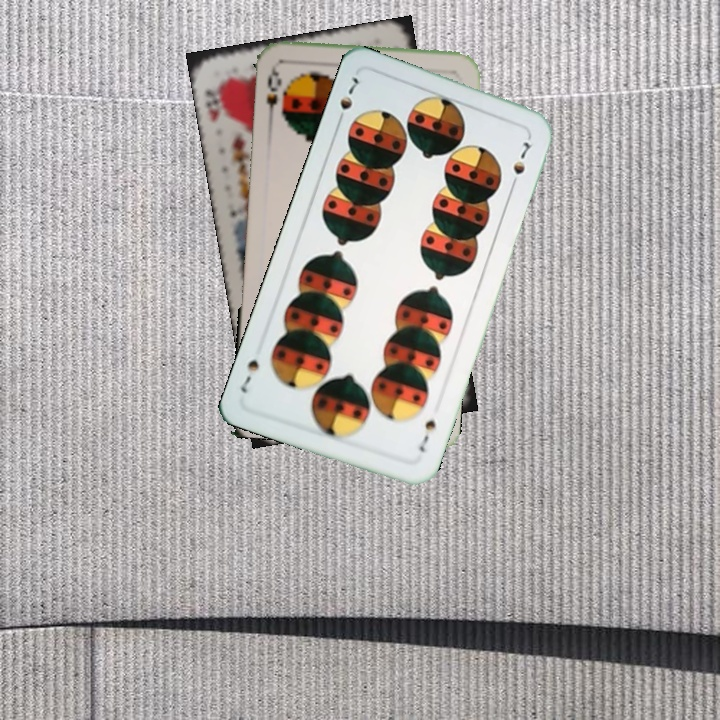HK: (200, 77, 225, 123)
S7: (333, 72, 362, 127), (415, 415, 439, 455)
SO: (262, 63, 284, 122)
